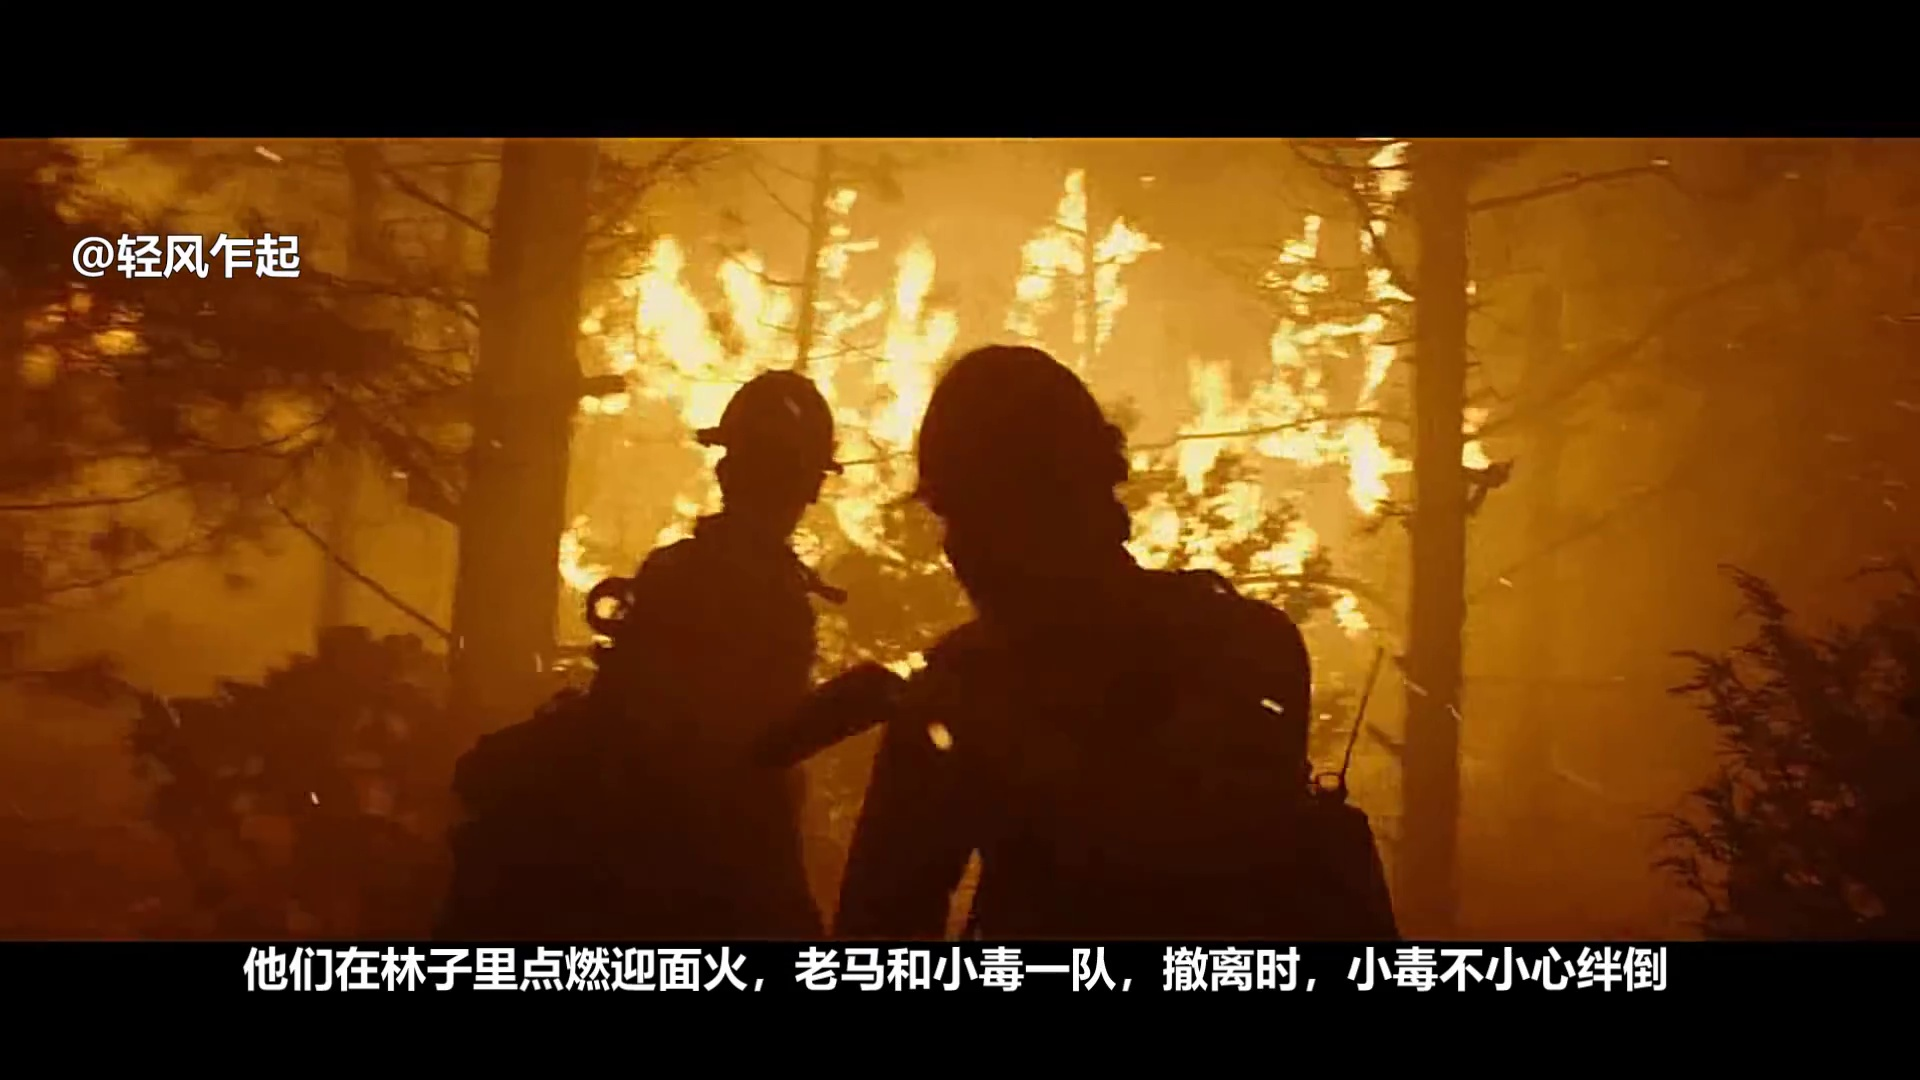fire: (571, 224, 955, 476), (1160, 228, 1404, 600), (1002, 171, 1142, 352), (560, 525, 589, 596)
